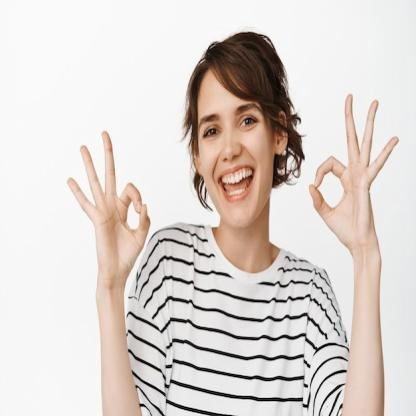ok: (308, 88, 402, 255), (66, 126, 152, 290)
